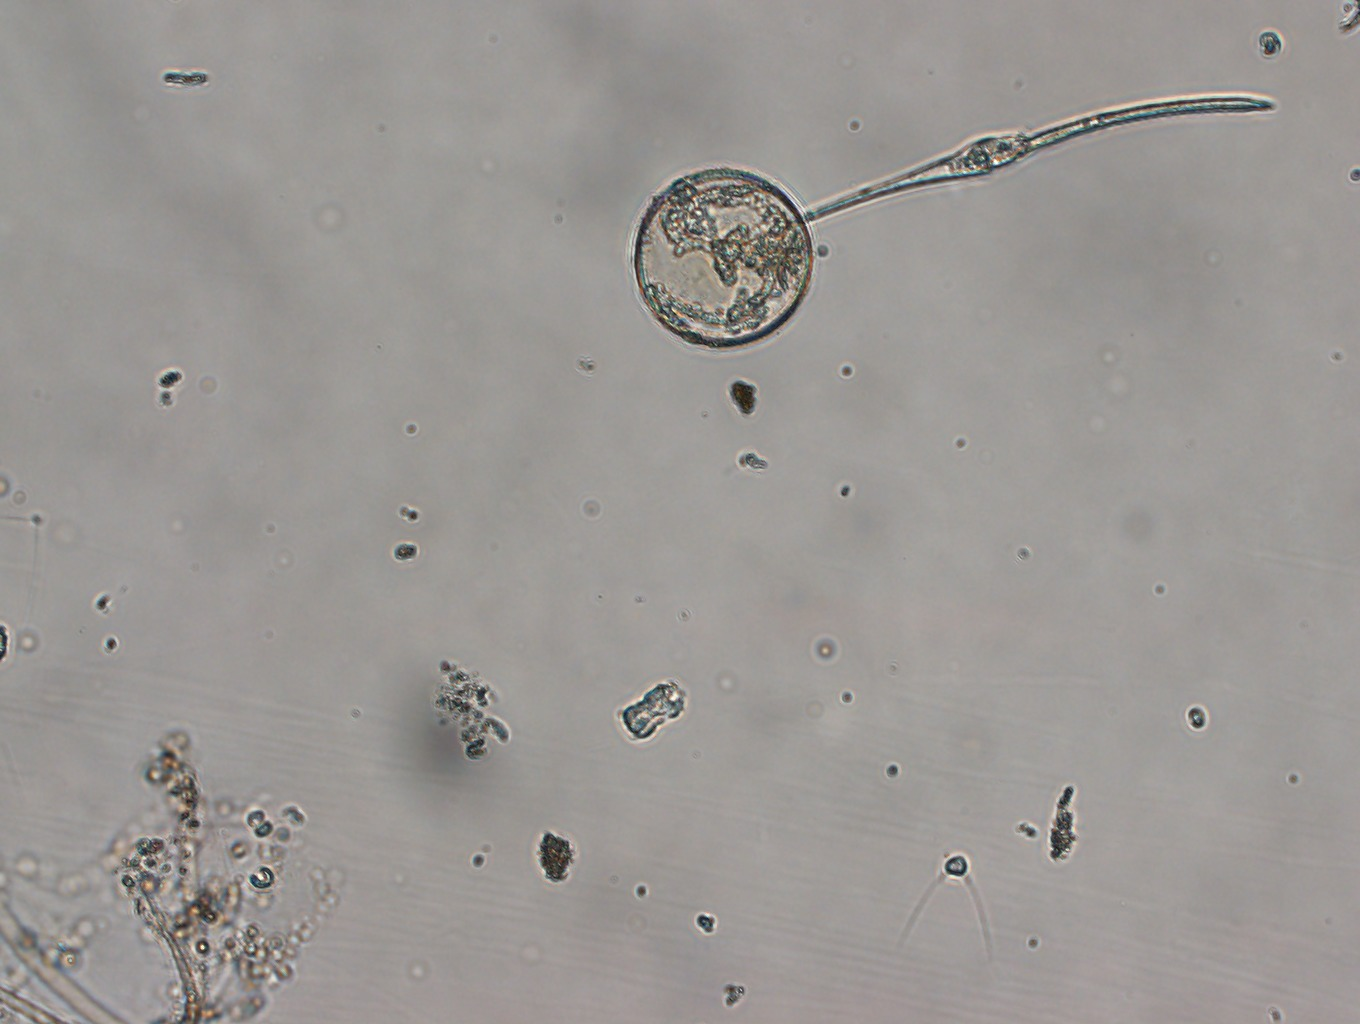ceratium fusus: (802, 93, 1277, 227)
coscinodiscus: (631, 166, 816, 350)
